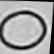no answer: (0, 8, 48, 52)
